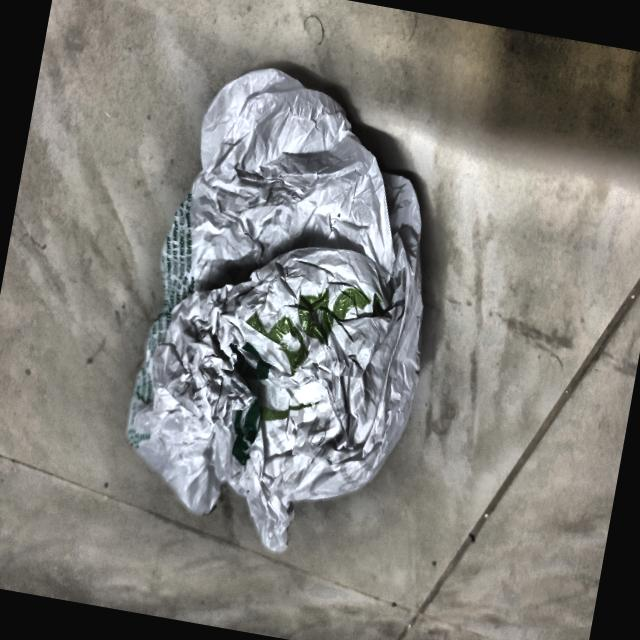plastic bag: (94, 36, 475, 579)
